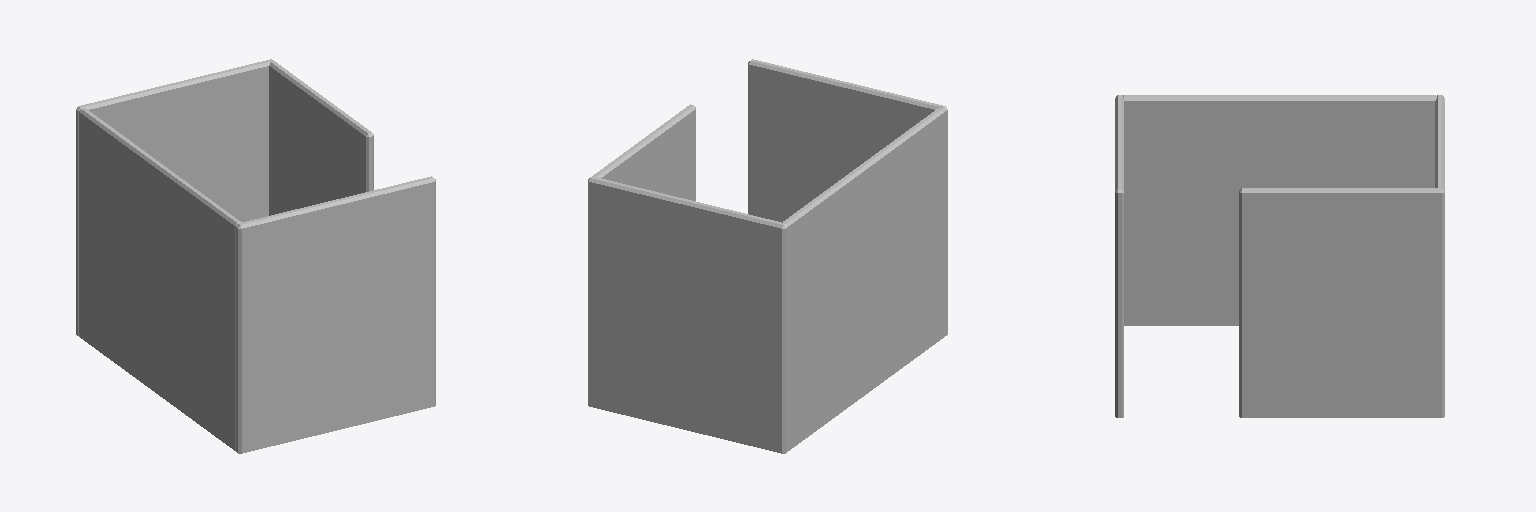
The model's file is CubicleLeft.obj.
The picture shows the model from 3 angles: view 1: azimuth 30°, elevation 25°; view 2: azimuth 150°, elevation 25°; view 3: azimuth 270°, elevation 25°; orthographic projection.
Parts seen in each view (by area): view 1: Cubicle; view 2: Cubicle; view 3: Cubicle.
Boxes of the visible parts, x1,y1,x2,y2 form: Cubicle: [76, 59, 435, 453]; Cubicle: [588, 59, 947, 453]; Cubicle: [1115, 95, 1444, 417].
Bounding box in the file's own units: 6.55 × 7.19 × 9.42.